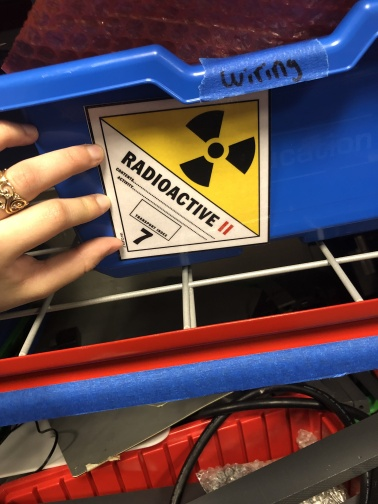Radioactive: (82, 89, 272, 259)
